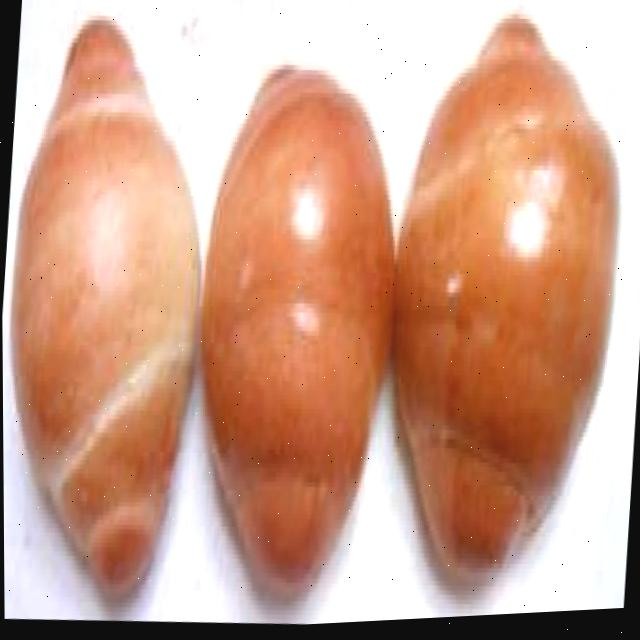面包点心: (0, 0, 634, 637)
